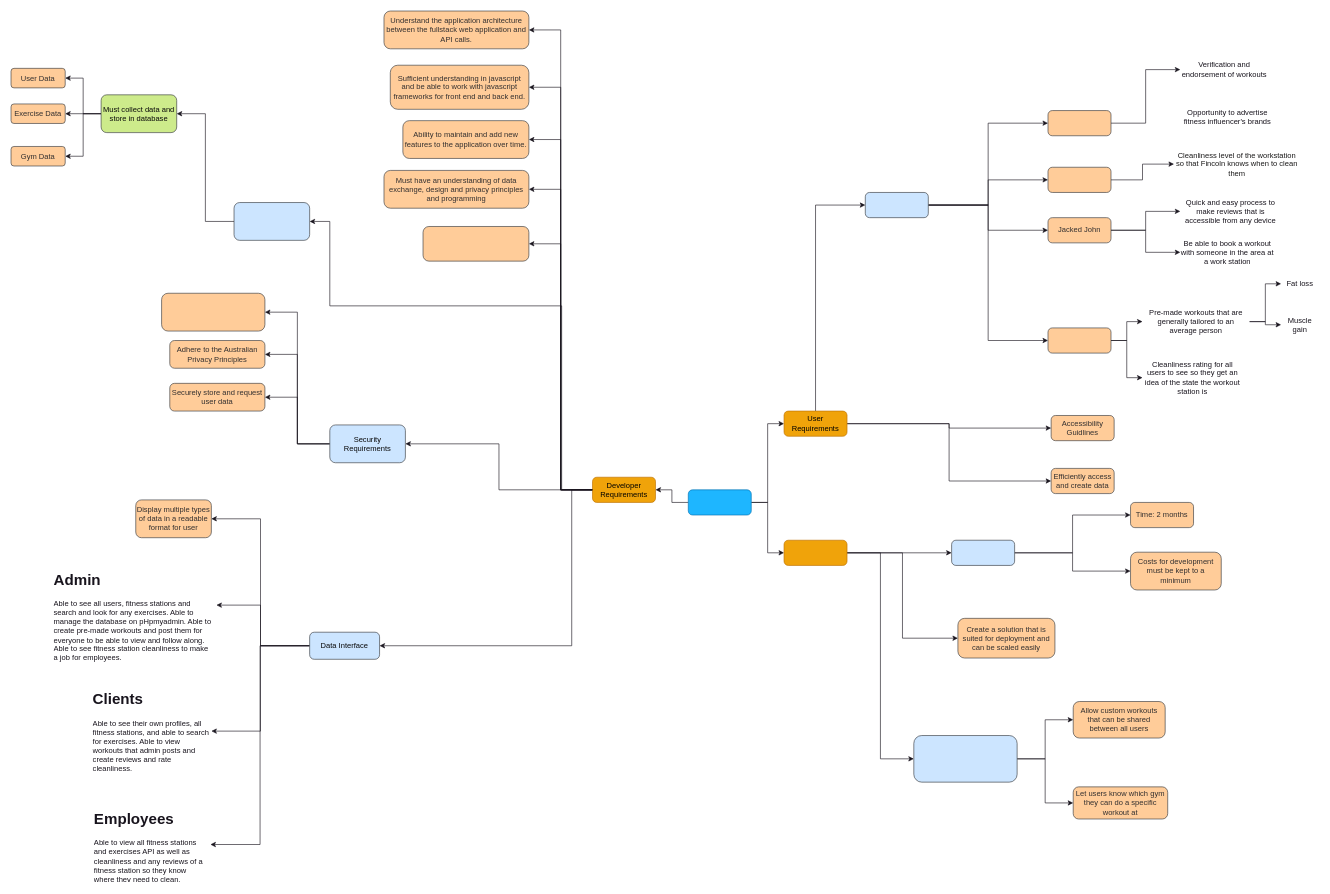
Image size: 1330x894. Some labels were removed from this diagram. The centre of each missing label's shape, as x and y in pixels:
"Able to transfer and change between formats of data to present it to the user" goes at [475,243].
"Bill Wenson" goes at [1079,340].
"Client Constraints" goes at [983,552].
"Client Personas" goes at [896,205].
"Client Requirements" goes at [815,552].
"Data Environment" goes at [271,221].
"Fincoln Lorbes" goes at [1079,179].
"Follow the Australian Government Security Principles" goes at [213,312].
"Gym Finder" goes at [719,502].
"Help the public get active and promote fitness for general health" goes at [965,758].
"Michelle Bridges" goes at [1079,123].
